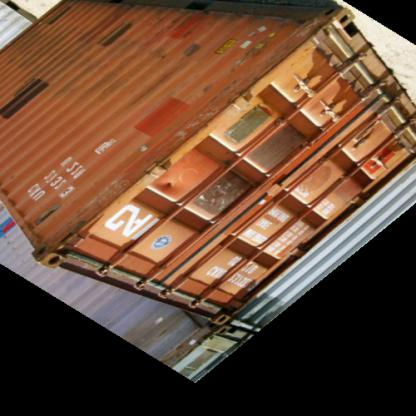Damage: (44, 174, 144, 261), (148, 92, 250, 170), (233, 24, 327, 101), (122, 40, 176, 76), (178, 38, 206, 72)
